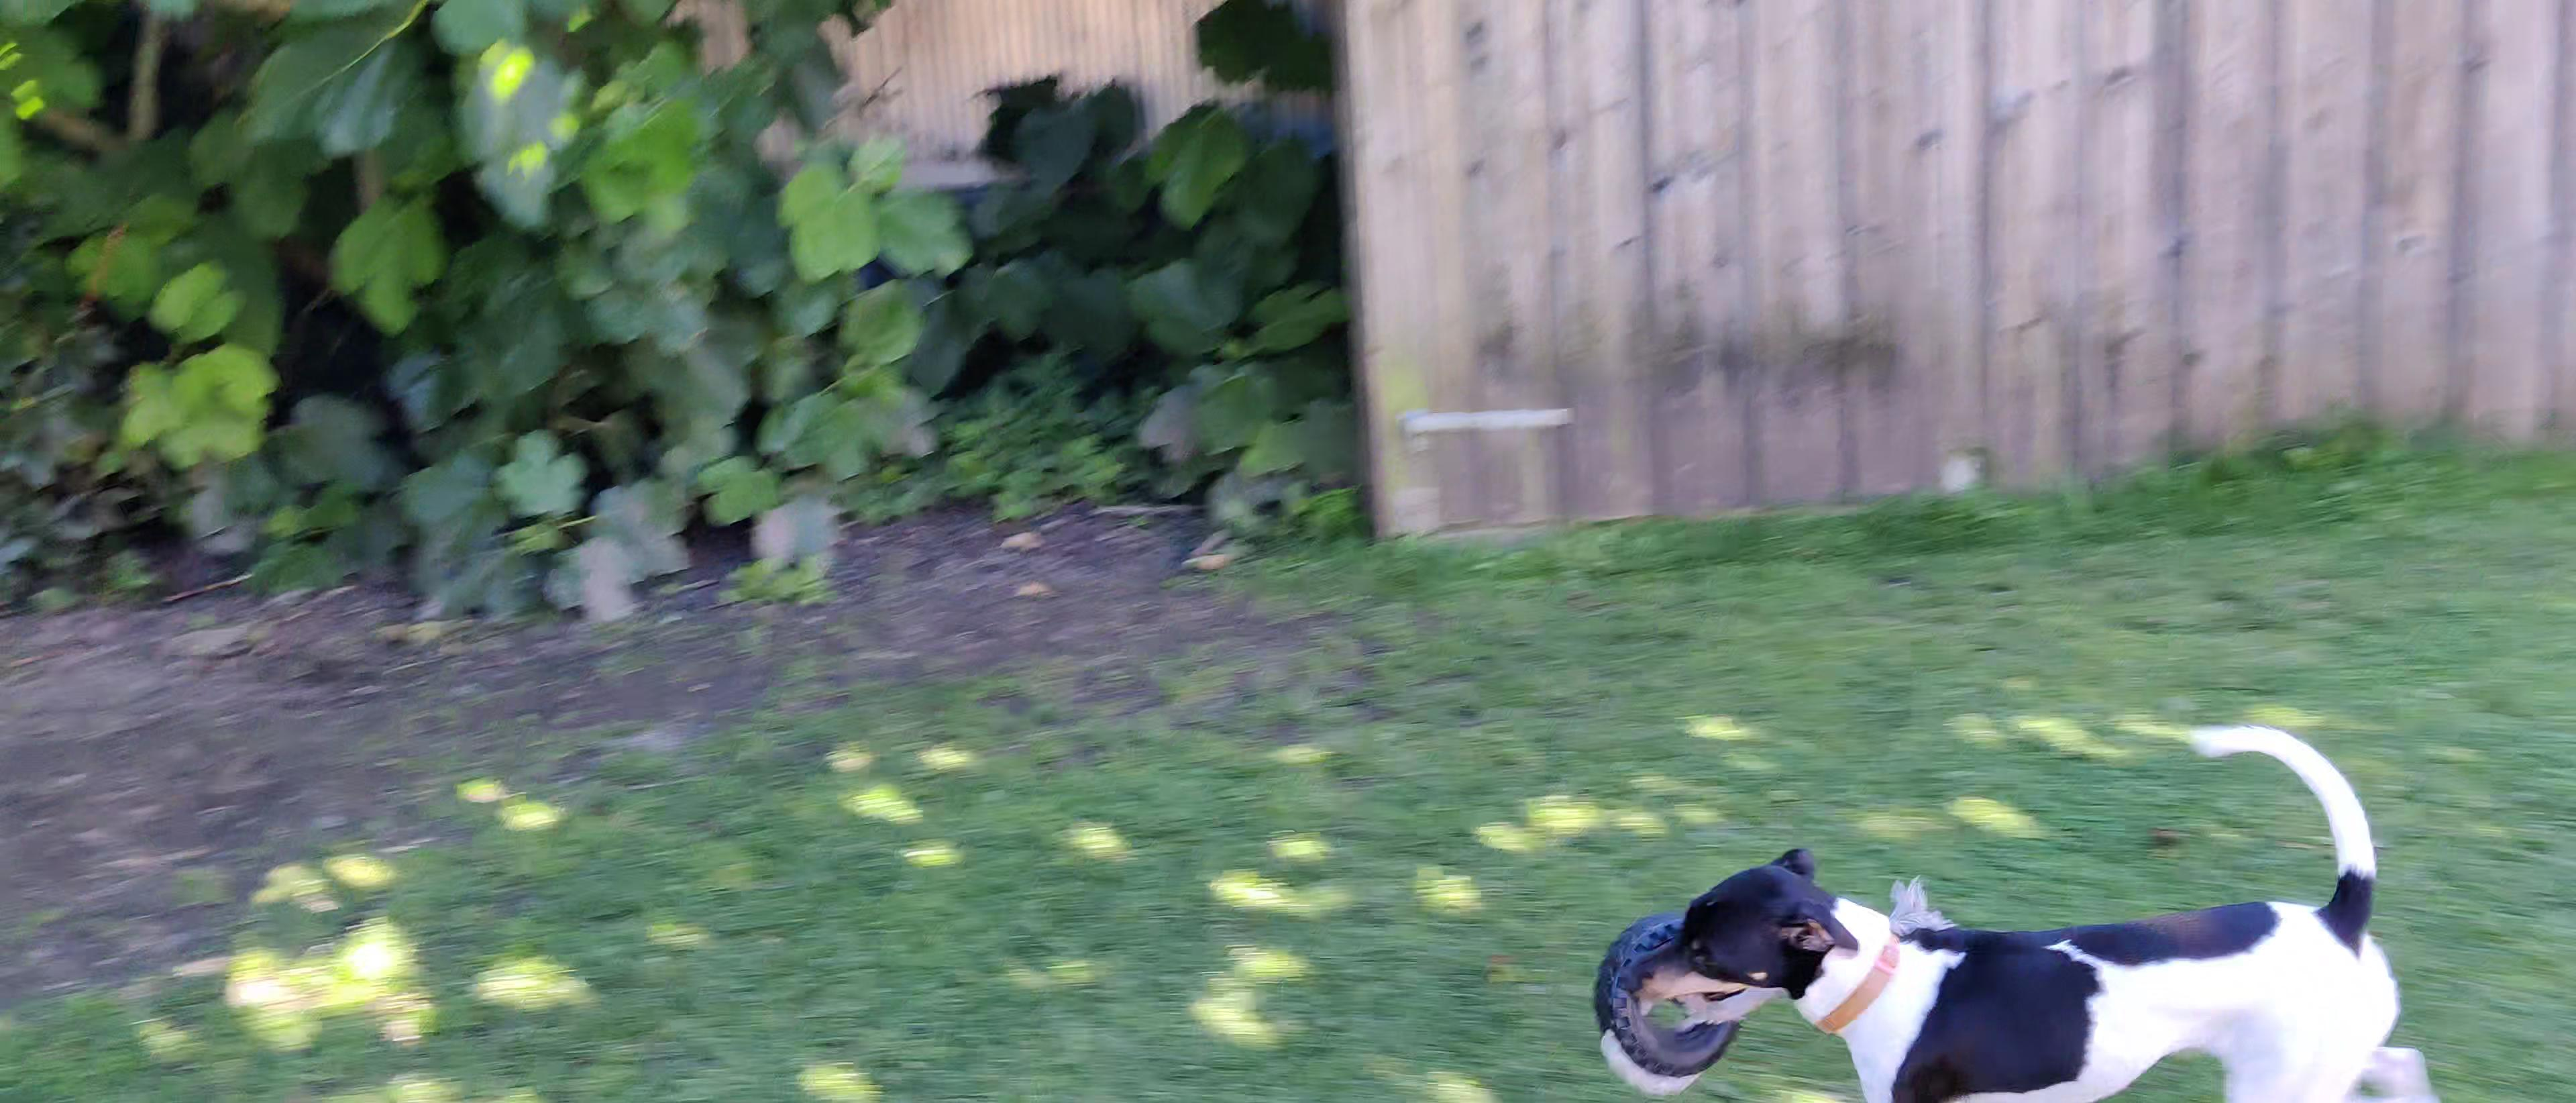Dog: (1630, 702, 2448, 1103)
